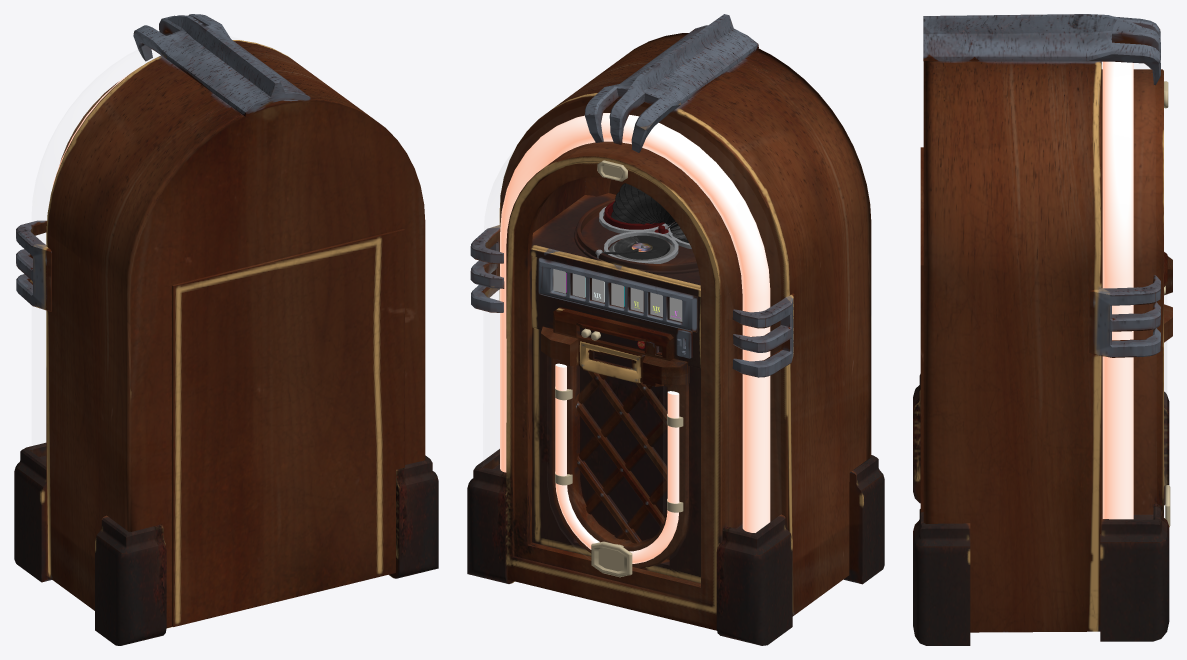
3 views of the same model, side by side, from view 1: azimuth 30°, elevation 25°; view 2: azimuth 150°, elevation 25°; view 3: azimuth 270°, elevation 25° (orthographic). The views are drawn at different scales.
Parts seen in each view (by area): view 1: cabinet, casing_grip1, foot6, foot7, foot4, casing_grip2; view 2: cabinet, shelf_and_face, jukebox_modellingunwrapped:jukebox_modelling:light_1_lights_, faceplate, casing_grip1, foot4, face_panel, speaker_lattice, foot5, jukebox_modellingunwrapped:jukebox_modelling:light_2_lights_, foot6, button_panel (+7 smaller); view 3: cabinet, jukebox_modellingunwrapped:jukebox_modelling:light_1_lights_, casing_grip1, foot5, foot7, casing_grip, foot6, face_panel, foot4.
Boxes of the visible parts, x1,y1,x2,y2 form: cabinet: (46,40,425,628); casing_grip1: (133,14,310,117); foot6: (95,515,166,645); foot7: (389,455,438,578); foot4: (14,442,51,582); casing_grip2: (16,220,51,311); cabinet: (499,33,871,630); shelf_and_face: (532,193,739,583); jukebox_modellingunwrapped:jukebox_modelling:light_1_lights_: (500,113,770,532); faceplate: (530,244,700,568); casing_grip1: (584,14,758,152); foot4: (716,514,792,645); face_panel: (541,307,689,387); speaker_lattice: (577,371,666,543); foot5: (467,449,514,583); jukebox_modellingunwrapped:jukebox_modelling:light_2_lights_: (555,363,679,563); foot6: (844,455,884,584); button_panel: (538,257,697,332); cabinet: (920,61,1163,632); jukebox_modellingunwrapped:jukebox_modelling:light_1_lights_: (1102,61,1133,519); casing_grip1: (923,14,1160,85); foot5: (1100,503,1169,641); foot7: (913,509,970,645); casing_grip: (1089,275,1160,357); foot6: (913,374,920,503); face_panel: (1164,252,1172,342); foot4: (1164,391,1169,505).
Size of the model in its own units: 1.24 by 1.94 by 0.8301.
Materials: 14 (5 with a texture image).
